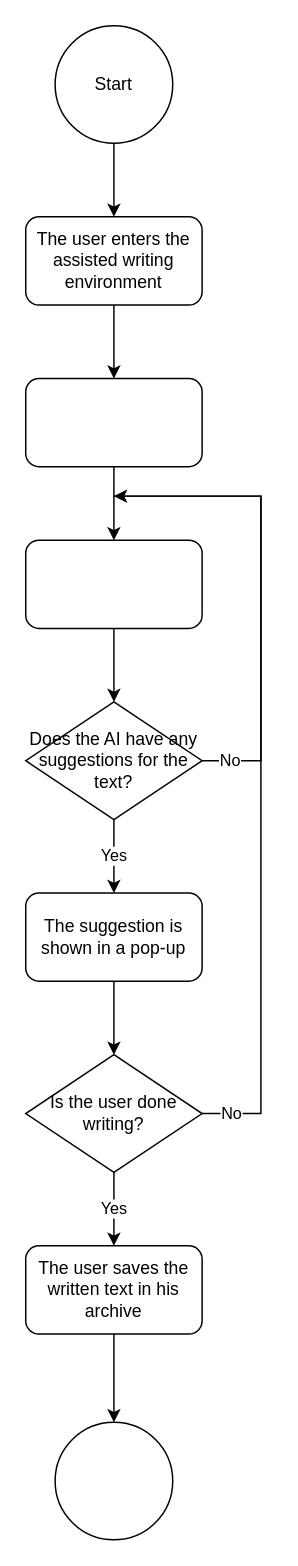
The diagram is 298 pixels wide and 1566 high, and some of its shapes have lost their labels. Each missing label, with the centre of its shape:
End: the point at 113,1480
The text is fed to the AI engine: the point at 113,583
The user begins to write: the point at 113,422
